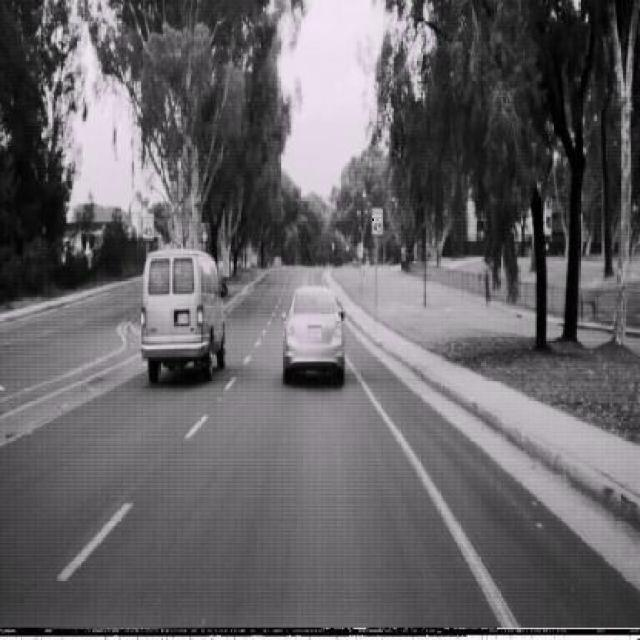speedLimit45: (371, 207, 383, 236)
